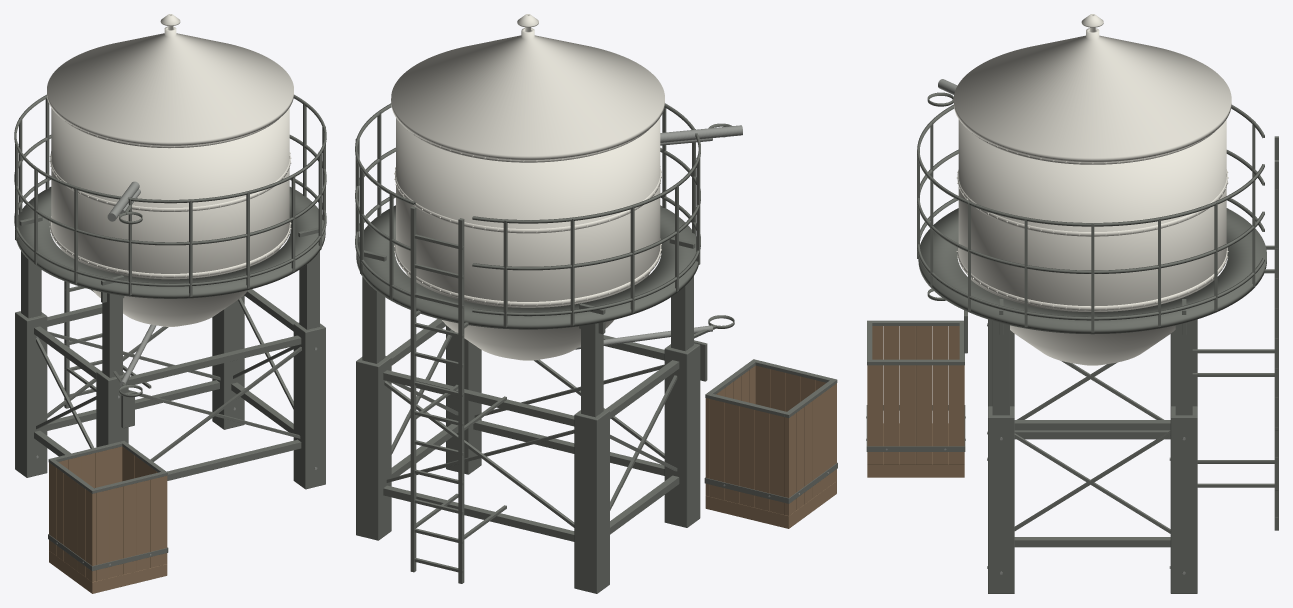
The model's file is house_tank.glb.
The picture shows the model from 3 angles, left to right: view 1: azimuth 30°, elevation 25°; view 2: azimuth 150°, elevation 25°; view 3: azimuth 270°, elevation 25°; orthographic projection. The views are drawn at different scales.
Visible parts, largest first — view 1: Shell, Structure, Iron, Timber, Fasteners; view 2: Shell, Structure, Iron, Timber, Fasteners; view 3: Shell, Structure, Iron, Timber.
Part boxes in pixels (x1,y1,x2,y2): Shell: (47, 14, 293, 326); Structure: (14, 94, 326, 480); Iron: (15, 295, 325, 571); Timber: (49, 446, 167, 593); Fasteners: (36, 181, 317, 565); Shell: (391, 14, 664, 360); Structure: (355, 103, 734, 583); Iron: (356, 325, 837, 593); Timber: (705, 365, 836, 528); Fasteners: (575, 125, 828, 497); Shell: (953, 14, 1231, 365); Structure: (917, 92, 1278, 547); Iron: (866, 319, 1197, 593); Timber: (867, 326, 964, 477).
Bounding box in the file's own units: 3.35 × 4.7 × 3.39.
